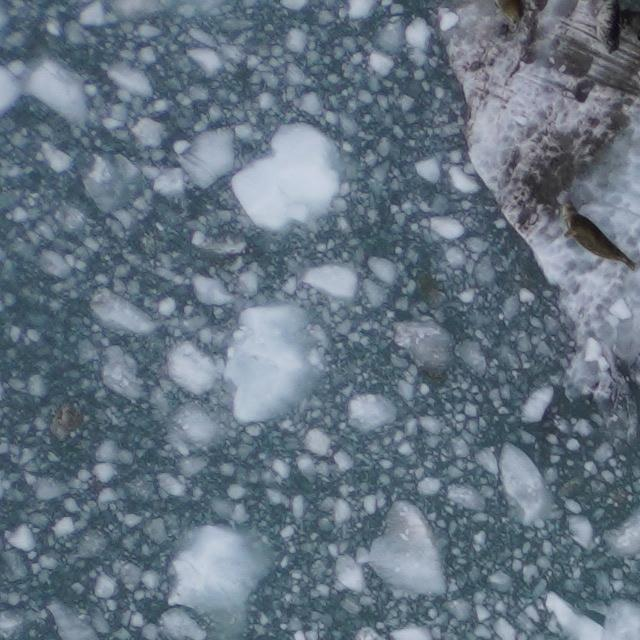seal: (559, 199, 640, 275), (590, 0, 629, 61)
